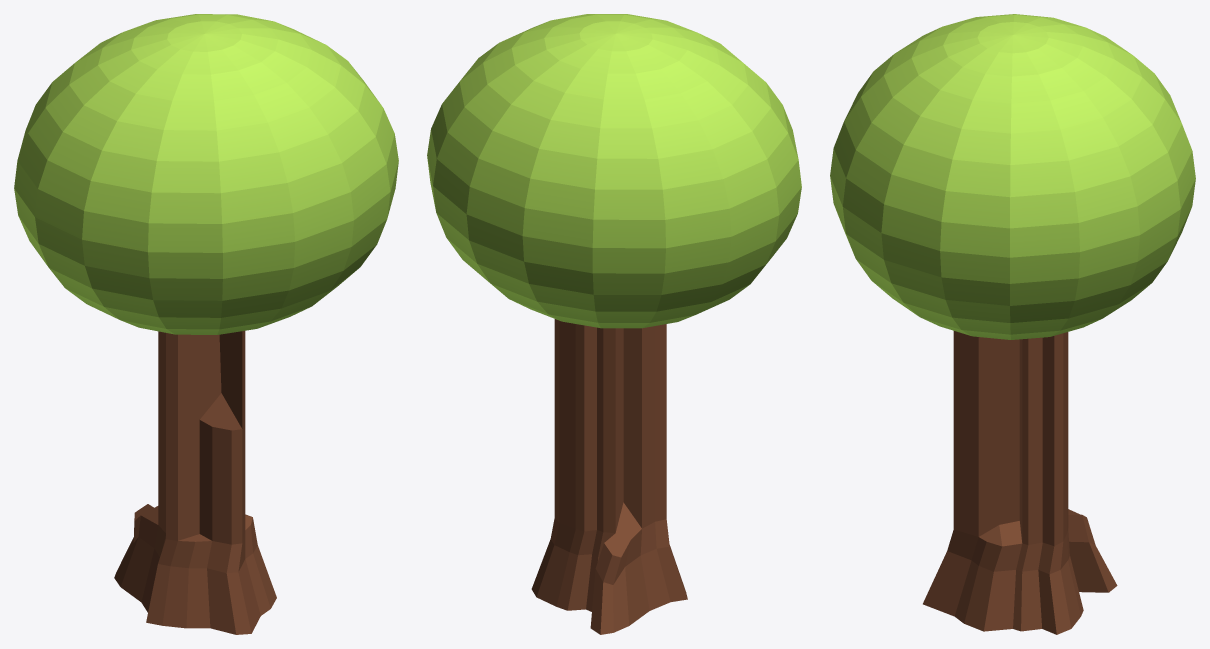
Rendered from tree.glb.
3 views of the same model, side by side, from view 1: azimuth 30°, elevation 25°; view 2: azimuth 150°, elevation 25°; view 3: azimuth 270°, elevation 25° (orthographic). The views are drawn at different scales.
Parts seen in each view (by area): view 1: HoverTile; view 2: HoverTile; view 3: HoverTile.
Part boxes in pixels (x1=…): HoverTile: x1=14, y1=14, x2=398, y2=634; HoverTile: x1=427, y1=14, x2=801, y2=634; HoverTile: x1=830, y1=14, x2=1195, y2=634.
Bounding box in the file's own units: 3.87 × 6.18 × 3.6.
Materials: 1 (1 with a texture image).
